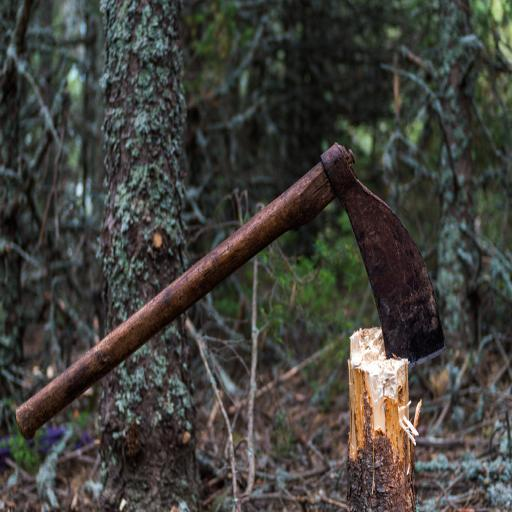Axe: (16, 138, 447, 440)
